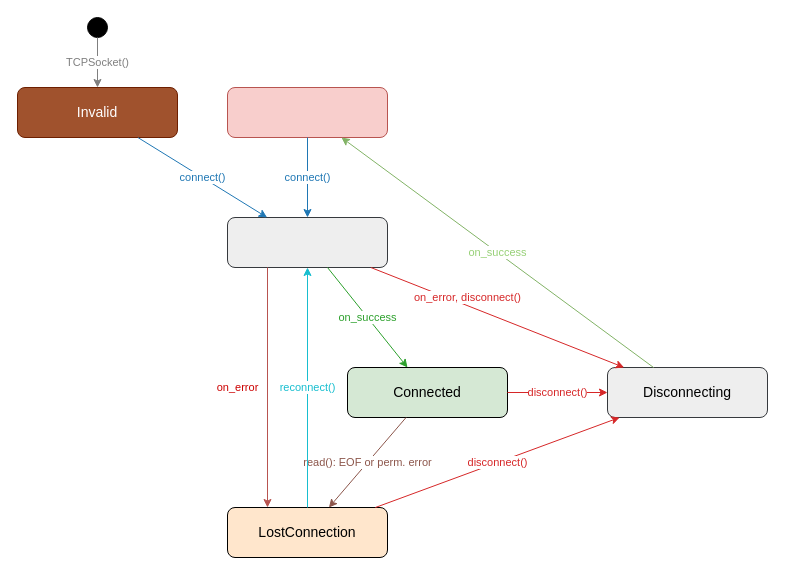
The diagram is 785 pixels wide and 575 high, and some of its shapes have lost their labels. The box of each missing label's shape, as (x1, y1, x2, y2) in pixels:
Closed: (226, 86, 388, 138)
Connecting: (226, 216, 388, 268)
